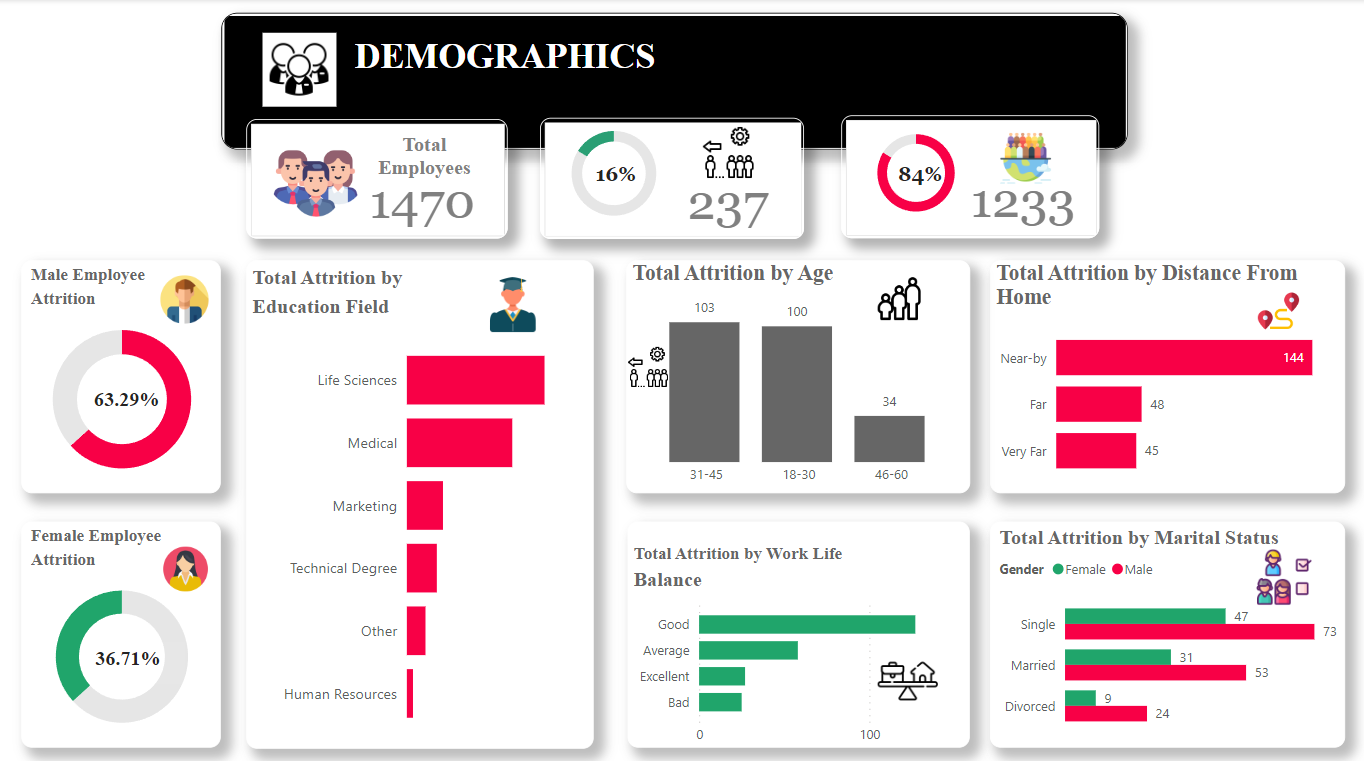

Layout of this report page (visuals, bound fields, positions):
{"tool":"powerbi","page":{"name":"Page 2","canvas":[1280,720],"ordinal":1},"visuals":[{"type":"shape","title":"DAS","box":[205.7,12.9,842.9,127.1],"z":0},{"type":"image","box":[244.3,31.4,68.6,68.6],"z":1000},{"type":"shape","title":"Shape 3","box":[782.9,108.6,240,114.3],"z":2000},{"type":"shape","title":"Shape 2","box":[502.9,110,245.7,112.9],"z":3000},{"type":"shape","title":"Shape 1","box":[228.6,111.4,242.9,111.4],"z":4000},{"type":"card","title":"Total Employees","fields":{"Values":["Sum(HR-Employee-Attrition.EmployeeCount)"]},"box":[294.3,135.7,177.1,90],"z":5000},{"type":"textbox","box":[328.6,120,131.4,65.7],"z":6000},{"type":"donutChart","fields":{"Category":["HR-Employee-Attrition.Attrition"],"Y":["Sum(HR-Employee-Attrition.EmployeeCount)"]},"box":[502.9,97.1,137.1,128.6],"z":7000},{"type":"card","fields":{"Values":["Sum(HR-Employee-Attrition.Attrition Count)"]},"box":[596.7,140,161.7,91.7],"z":8000},{"type":"card","fields":{"Values":["Max(HR-Employee-Attrition.AE)"]},"box":[854.3,134.3,194.3,100],"z":9000},{"type":"donutChart","fields":{"Category":["HR-Employee-Attrition.Attrition"],"Y":["Sum(HR-Employee-Attrition.EmployeeCount)"]},"box":[802.9,97.1,100,128.6],"z":11000},{"type":"image","box":[238.6,127.1,110,90],"z":12000},{"type":"textbox","box":[548.6,147.1,61.4,35.7],"z":13000},{"type":"image","box":[631.7,113.3,91.7,60],"z":14000},{"type":"textbox","box":[830,147.1,61.4,35.7],"z":15000},{"type":"image","box":[908.3,120,91.7,56.7],"z":16000},{"type":"clusteredBarChart","title":"Total Attrition by","fields":{"Y":["CountNonNull(HR-Employee-Attrition.Attrition)"],"Category":["HR-Employee-Attrition.EducationField"]},"box":[228.6,242.9,322.9,454.3],"z":17000},{"type":"image","box":[441.4,252.9,70,64.3],"z":18000},{"type":"clusteredBarChart","title":"Total Attrition by Work Life","fields":{"Category":["HR-Employee-Attrition.WorkLifeBalance"],"Y":["Sum(HR-Employee-Attrition.Attrition Count)"]},"box":[584.3,485.7,318.6,210],"z":19000},{"type":"clusteredBarChart","title":"Total Attrition by Distance From Home","fields":{"Category":["HR-Employee-Attrition.DistanceFromHome (groups)"],"Y":["Sum(HR-Employee-Attrition.Attrition Count)"]},"box":[921.4,242.9,330,217.1],"z":20000},{"type":"columnChart","title":"Total Attrition by Age","fields":{"Y":["Sum(HR-Employee-Attrition.Attrition Count)"],"Category":["HR-Employee-Attrition.Age (groups)"]},"box":[582.9,242.9,320,217.1],"z":21000},{"type":"clusteredBarChart","title":"Total Attrition by Marital Status","fields":{"Y":["Sum(HR-Employee-Attrition.Attrition Count)"],"Category":["HR-Employee-Attrition.MaritalStatus"],"Series":["HR-Employee-Attrition.Gender"]},"box":[921.4,485.7,330,210],"z":22000},{"type":"image","box":[1160,507.1,68.6,61.4],"z":23000},{"type":"image","box":[1160,265.7,57.1,48.6],"z":24000},{"type":"image","box":[811.4,252.9,50,52.9],"z":25000},{"type":"image","box":[811.4,597.1,65.7,74.3],"z":26000},{"type":"image","box":[575.7,317.1,54.3,50],"z":27000},{"type":"donutChart","title":"Male Employee","fields":{"Category":["HR-Employee-Attrition.Gender"],"Y":["Sum(HR-Employee-Attrition.Attrition Count)"]},"box":[20,242.9,185.7,217.1],"z":28000},{"type":"donutChart","title":"Female Employee","fields":{"Category":["HR-Employee-Attrition.Gender"],"Y":["Sum(HR-Employee-Attrition.Attrition Count)"]},"box":[20,485.7,185.7,210],"z":29000},{"type":"textbox","box":[82.9,357.1,97.1,35.7],"z":30000},{"type":"textbox","box":[84.3,597.1,88.6,40],"z":31000},{"type":"image","box":[137.1,252.9,68.6,54.3],"z":32000},{"type":"image","box":[142.9,504.3,58.6,51.4],"z":33000}]}

Visuals, with their boxes in screenshot pixels (x1, y1, x2, y2), scaled from the page's 1280x720 canvas onto the 1364x761 screenshot:
"DAS" shape: x1=219 y1=14 x2=1117 y2=148
image: x1=260 y1=33 x2=333 y2=106
"Shape 3" shape: x1=834 y1=115 x2=1090 y2=236
"Shape 2" shape: x1=536 y1=116 x2=798 y2=236
"Shape 1" shape: x1=244 y1=118 x2=502 y2=235
"Total Employees" card: x1=314 y1=143 x2=502 y2=239
textbox: x1=350 y1=127 x2=490 y2=196
donutChart - HR-Employee-Attrition.Attrition x Sum(HR-Employee-Attrition.EmployeeCount): x1=536 y1=103 x2=682 y2=239
card - Sum(HR-Employee-Attrition.Attrition Count): x1=636 y1=148 x2=808 y2=245
card - Max(HR-Employee-Attrition.AE): x1=910 y1=142 x2=1117 y2=248
donutChart - HR-Employee-Attrition.Attrition x Sum(HR-Employee-Attrition.EmployeeCount): x1=856 y1=103 x2=962 y2=239
image: x1=254 y1=134 x2=371 y2=229
textbox: x1=585 y1=155 x2=650 y2=193
image: x1=673 y1=120 x2=771 y2=183
textbox: x1=884 y1=155 x2=950 y2=193
image: x1=968 y1=127 x2=1066 y2=187
"Total Attrition by" clusteredBarChart: x1=244 y1=257 x2=588 y2=737
image: x1=470 y1=267 x2=545 y2=335
"Total Attrition by Work Life" clusteredBarChart: x1=623 y1=513 x2=962 y2=735
"Total Attrition by Distance From Home" clusteredBarChart: x1=982 y1=257 x2=1334 y2=486
"Total Attrition by Age" columnChart: x1=621 y1=257 x2=962 y2=486
"Total Attrition by Marital Status" clusteredBarChart: x1=982 y1=513 x2=1334 y2=735
image: x1=1236 y1=536 x2=1309 y2=601
image: x1=1236 y1=281 x2=1297 y2=332
image: x1=865 y1=267 x2=918 y2=323
image: x1=865 y1=631 x2=935 y2=710
image: x1=613 y1=335 x2=671 y2=388
"Male Employee" donutChart: x1=21 y1=257 x2=219 y2=486
"Female Employee" donutChart: x1=21 y1=513 x2=219 y2=735
textbox: x1=88 y1=377 x2=192 y2=415
textbox: x1=90 y1=631 x2=184 y2=673
image: x1=146 y1=267 x2=219 y2=325
image: x1=152 y1=533 x2=215 y2=587
